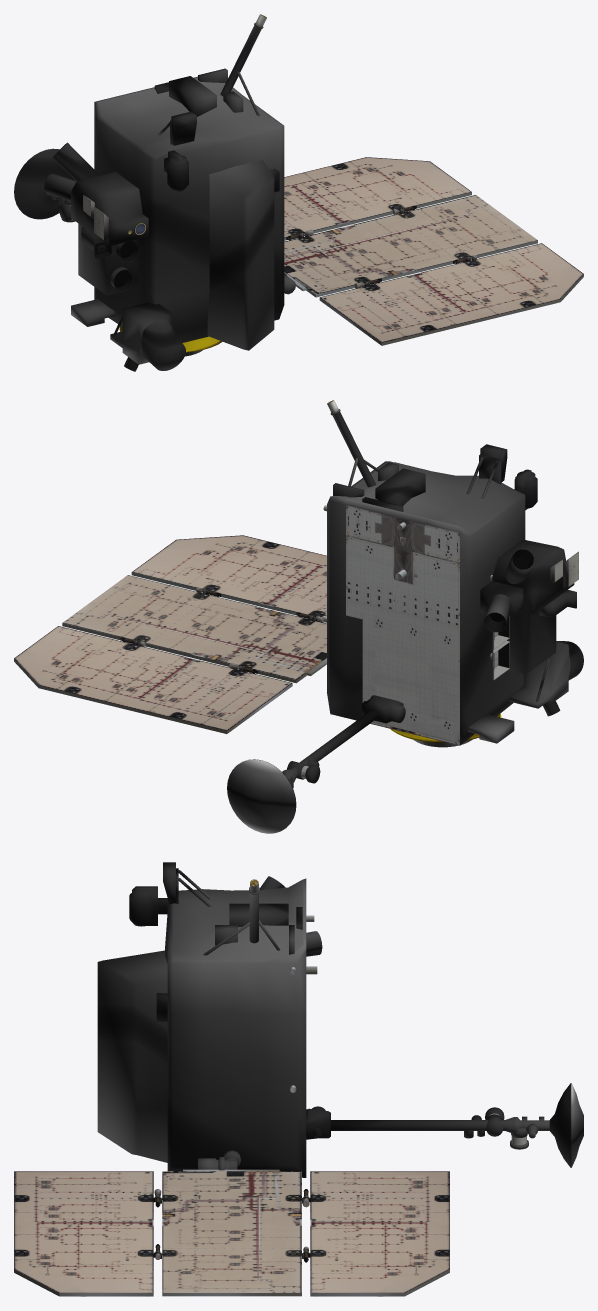
The model's file is lunar_recoinnance.glb.
3 renders of one model, top to bottom at view 1: azimuth 30°, elevation 25°; view 2: azimuth 150°, elevation 25°; view 3: azimuth 270°, elevation 25°, orthographic. The views are drawn at different scales.
Parts seen in each view (by area): view 1: foil_silver, tex, dark_black; view 2: tex, foil_silver, panel, foil_silver_dish, dark_black; view 3: foil_silver, tex, foil_silver_dish.
Part boxes in pixels (left/top/right/bottom): foil_silver: left=14, top=22, right=295, bottom=371; tex: left=70, top=14, right=583, bottom=356; dark_black: left=53, top=143, right=138, bottom=290; tex: left=14, top=400, right=578, bottom=778; foil_silver: left=249, top=409, right=583, bottom=820; panel: left=346, top=505, right=459, bottom=745; foil_silver_dish: left=227, top=759, right=295, bottom=833; dark_black: left=484, top=549, right=533, bottom=668; foil_silver: left=97, top=862, right=571, bottom=1177; tex: left=14, top=879, right=526, bottom=1296; foil_silver_dish: left=571, top=1083, right=583, bottom=1167.
Bounding box in the file's own units: 5.45 × 3.66 × 5.51.
Materials: 7 (7 with a texture image).
